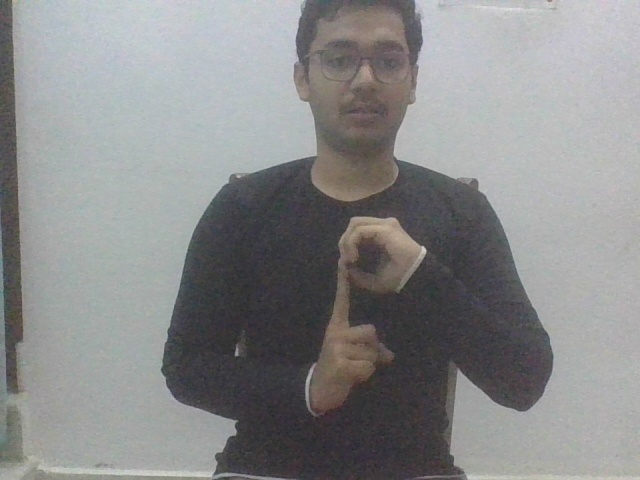P: (305, 211, 426, 417)
